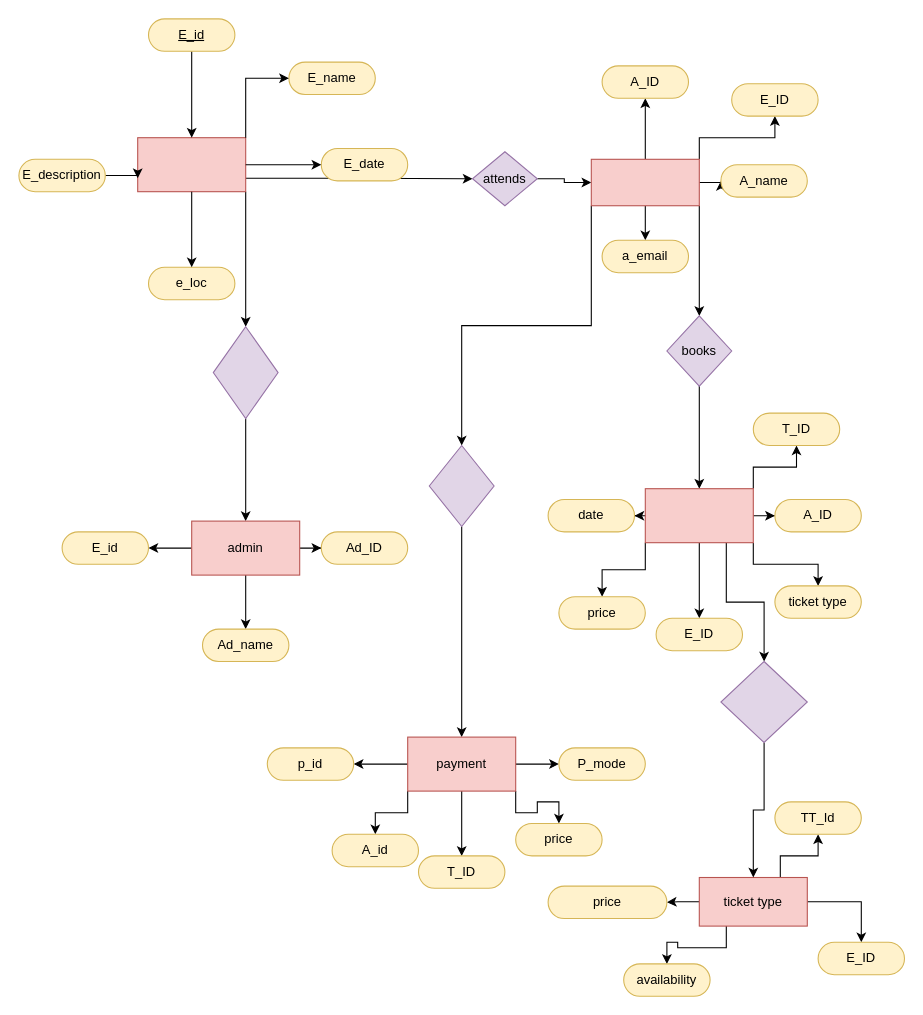
The diagram is 923 pixels wide and 1015 high, and some of its shapes have lost their labels. Each missing label, with the centre of its shape:
attendee: the point at 644,182
Event Table: the point at 191,164
manages: the point at 245,372
pays: the point at 461,485
ticket: the point at 698,515
types available: the point at 763,701
